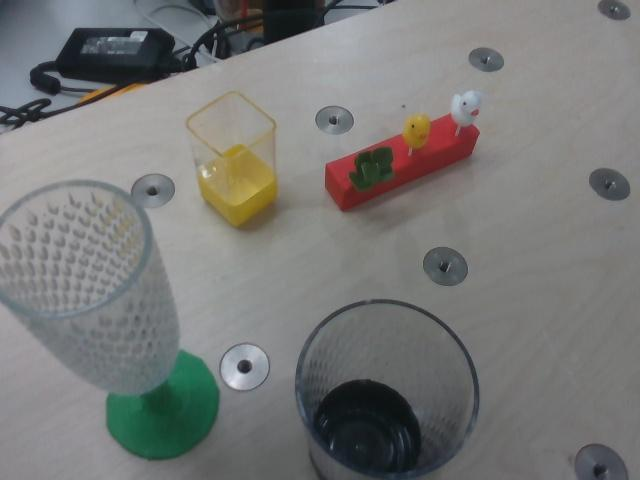black_cup: (308, 377, 424, 480)
green_cup: (108, 350, 219, 461)
leaf: (349, 145, 396, 194)
w_duck: (450, 91, 481, 127)
y_duck: (403, 113, 434, 150)
yellow_cup: (199, 143, 276, 228)
